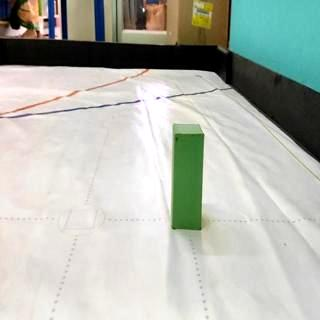greenbox: (172, 120, 204, 232)
